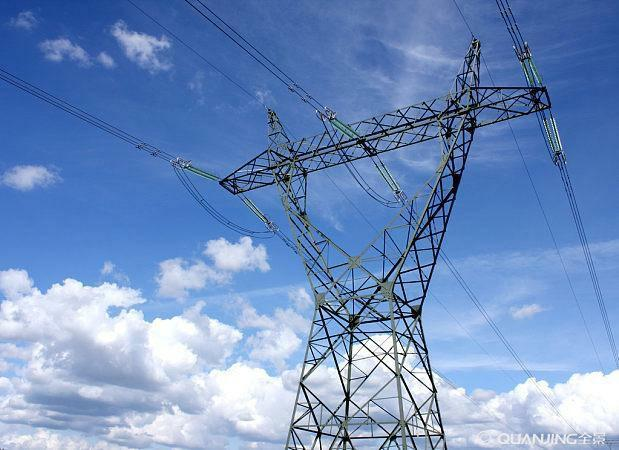power_tower: (206, 38, 556, 450)
